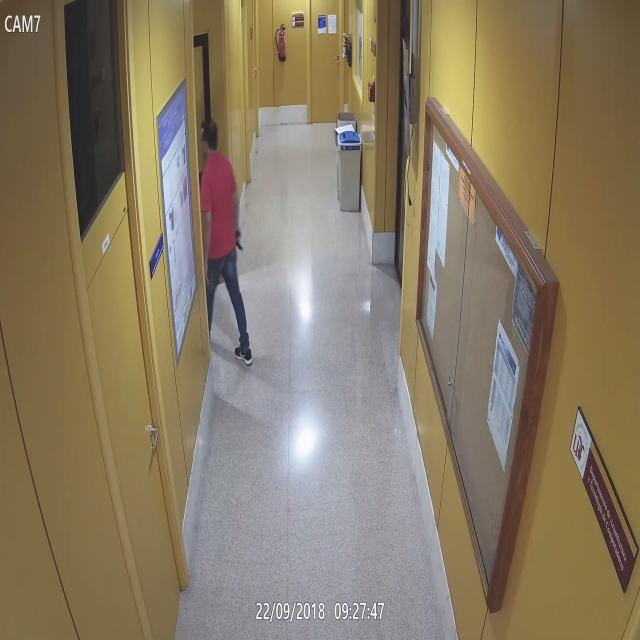pistol: (234, 226, 244, 252)
